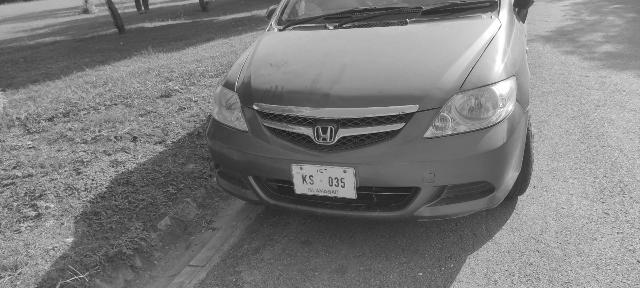Number: (297, 172, 348, 190)
